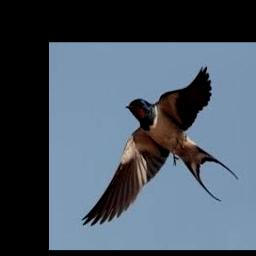Swallow: (81, 65, 237, 225)
